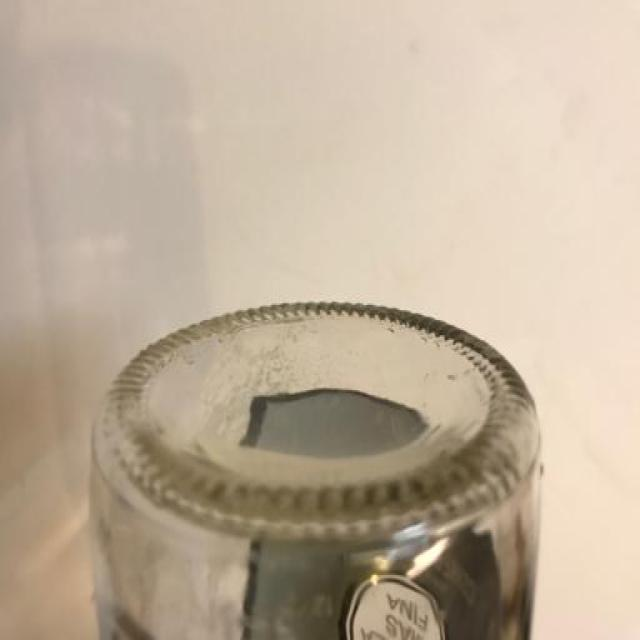glass: (86, 302, 545, 640)
